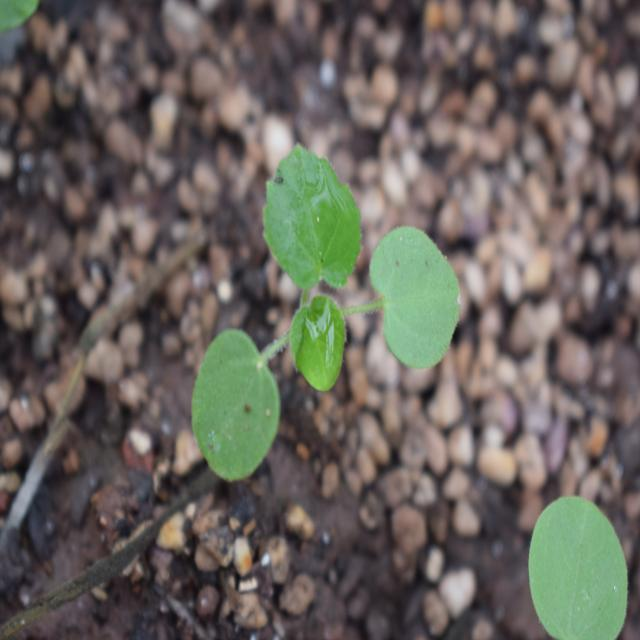abutilon theophrasti: (165, 140, 457, 498)
